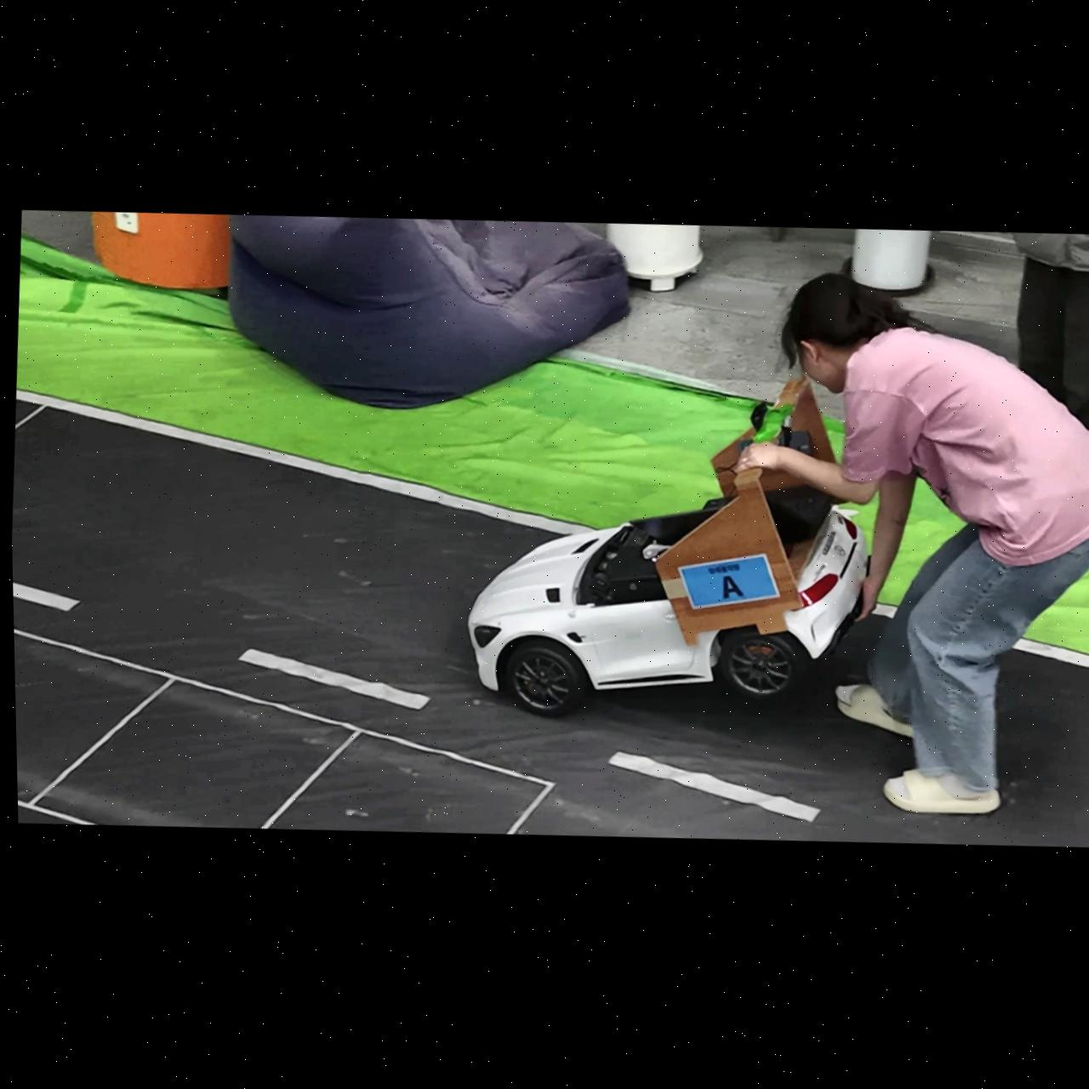broken_line: (607, 751, 820, 822), (237, 648, 430, 709), (13, 582, 80, 611)
